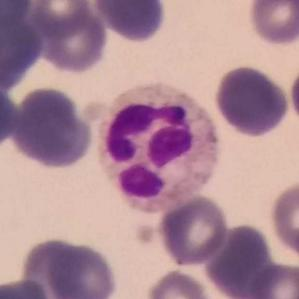Neutrophil: (95, 80, 226, 211)
RBC: (10, 85, 96, 171), (212, 63, 292, 139), (203, 221, 277, 299), (156, 193, 230, 268), (34, 5, 110, 76), (40, 238, 119, 299), (16, 235, 88, 299), (0, 2, 47, 98), (91, 0, 169, 44), (267, 179, 299, 261), (26, 0, 93, 38), (245, 0, 299, 47), (144, 267, 216, 299), (246, 260, 299, 299), (0, 81, 20, 152), (0, 276, 54, 299), (287, 65, 299, 122)
